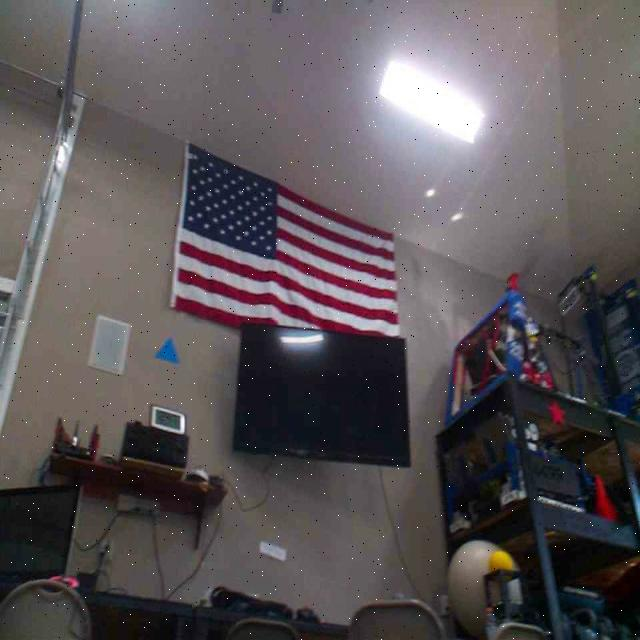star_red: (548, 397, 566, 427)
triangle_blue: (153, 336, 180, 366)
